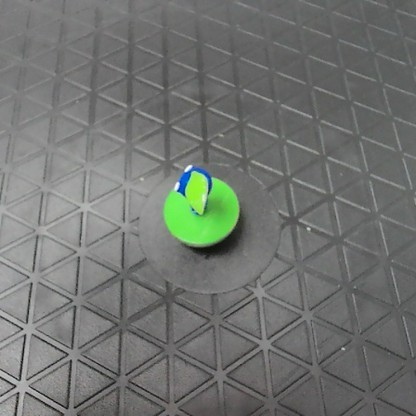leafairy: (160, 159, 241, 253)
